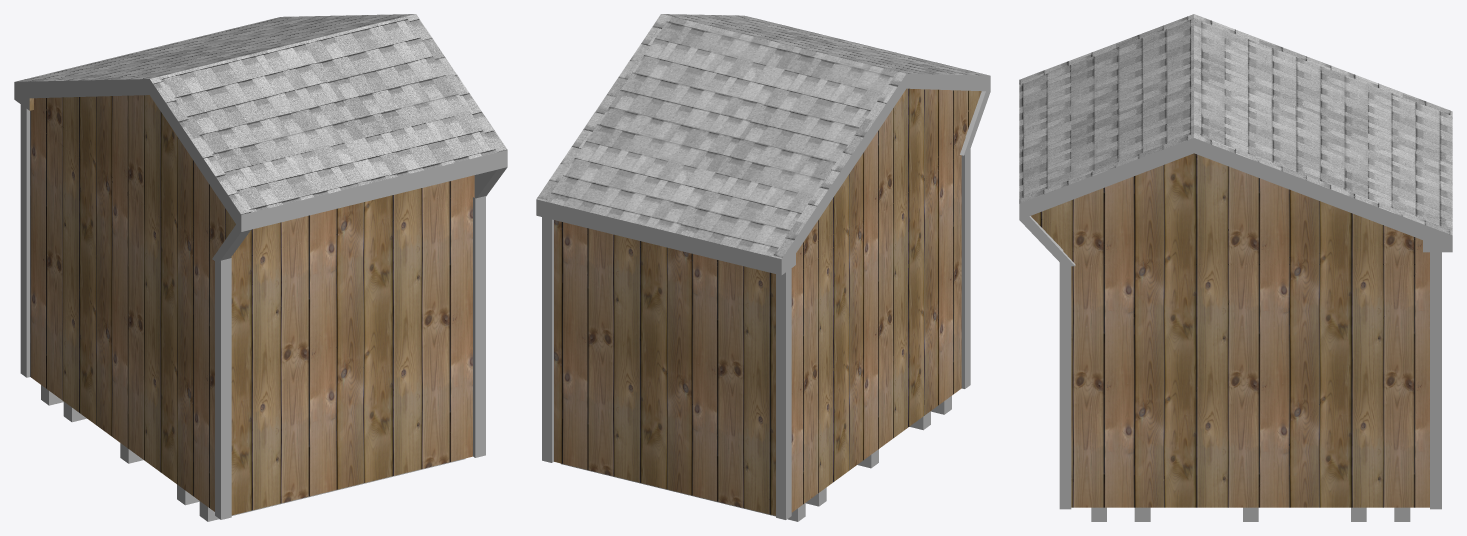
File: Quaker Sheds_6x8.obj
3 renders of one model, left to right at view 1: azimuth 30°, elevation 25°; view 2: azimuth 150°, elevation 25°; view 3: azimuth 270°, elevation 25°, orthographic. The views are drawn at different scales.
Visible parts, largest first — view 1: Shed, Roof, Trim, Sides, Floor; view 2: Shed, Roof, Trim, Sides, Floor; view 3: Shed, Roof, Sides, Trim, Floor.
Part boxes in pixels (x1,y1,x2,y2): Shed: (29, 95, 474, 515); Roof: (15, 14, 507, 214); Trim: (20, 104, 485, 519); Sides: (14, 79, 507, 263); Floor: (41, 385, 465, 521); Shed: (554, 88, 981, 515); Roof: (536, 14, 989, 258); Trim: (542, 149, 970, 519); Sides: (536, 74, 990, 275); Floor: (560, 396, 951, 521); Shed: (1031, 153, 1429, 507); Roof: (1019, 14, 1452, 235); Sides: (1019, 138, 1452, 266); Trim: (1059, 252, 1441, 509); Floor: (1091, 507, 1410, 521).
Size of the model in its own units: 1.89 by 2.74 by 2.79.
